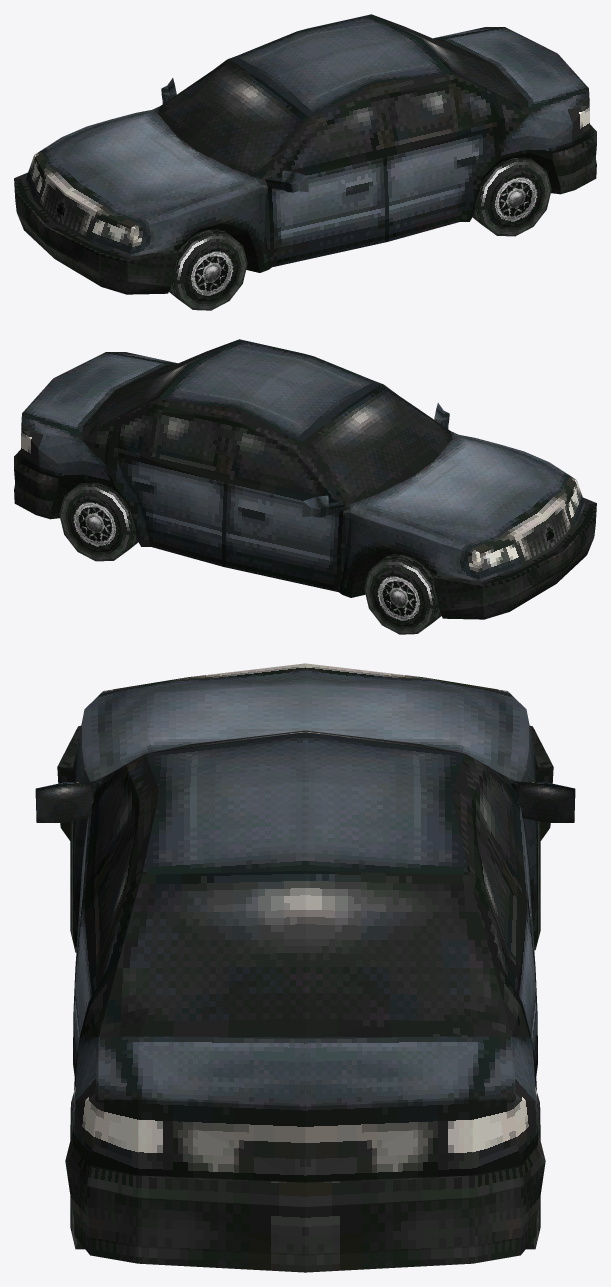
Rendered from prop_generic_car.glb.
3 views of the same model, one above another, from view 1: azimuth 30°, elevation 25°; view 2: azimuth 150°, elevation 25°; view 3: azimuth 270°, elevation 25° (orthographic). The views are drawn at different scales.
Parts seen in each view (by area): view 1: Car_Generic; view 2: Car_Generic; view 3: Car_Generic.
Part boxes in pixels (box(x1,y1,x2,y2)): Car_Generic: box(14, 14, 596, 310); Car_Generic: box(14, 339, 596, 634); Car_Generic: box(35, 663, 575, 1272).
Bounding box in the file's own units: 4.95 × 1.56 × 2.23.
2 materials, 2 textured.
